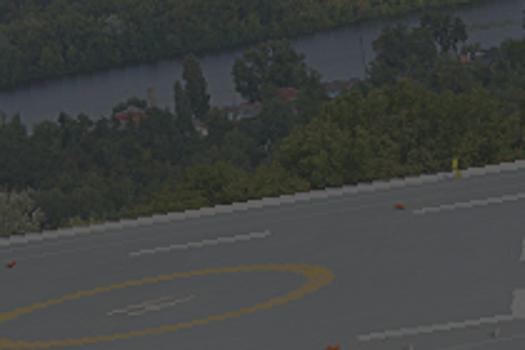Apron: (1, 250, 337, 347)
